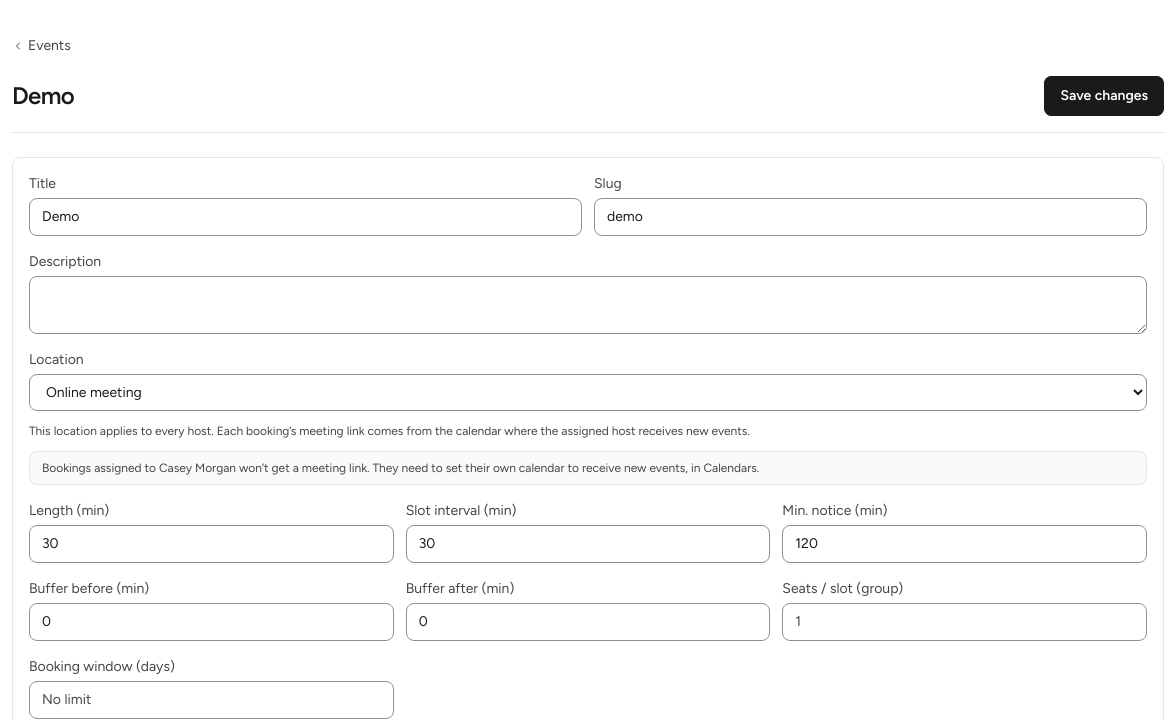
Test: team event, round robin, online meeting › drops the helper and the warning once another kind is chosen
Select "In person" in the dropdown labelled "Location". click: (588, 392)
box: [29,374,1147,411]
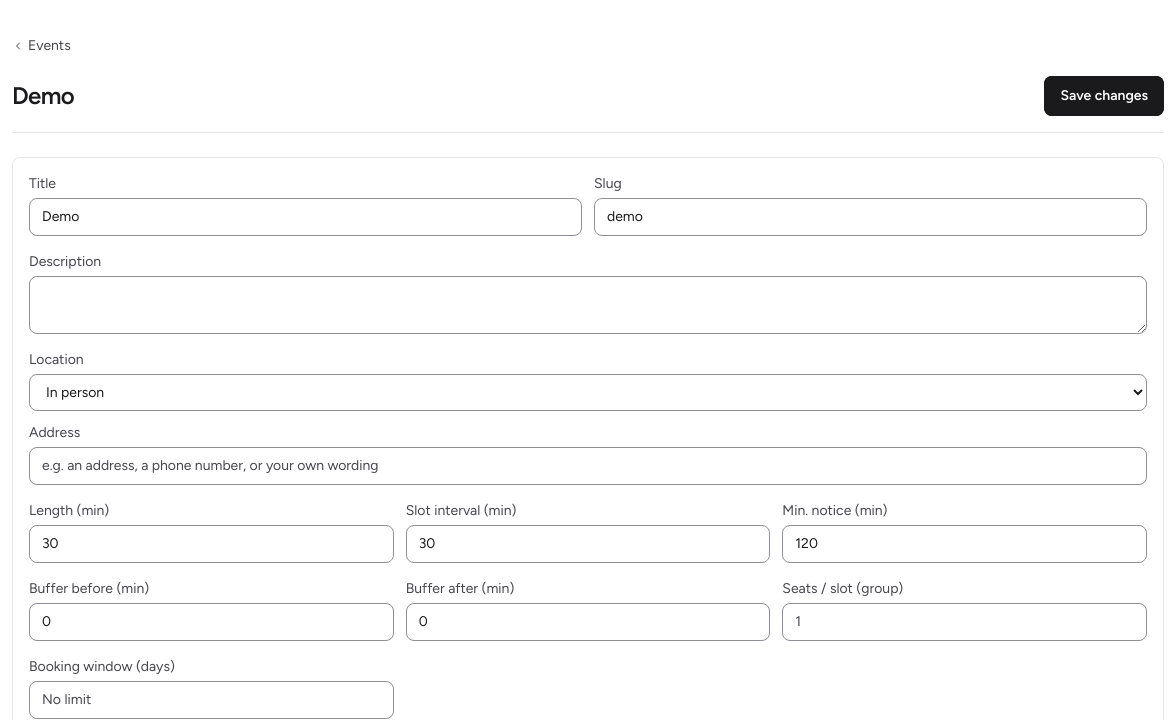
Expected: the text "This location applies to every host. Each booking’s meeting link comes from the calendar where the assigned host receives new events." is gone
